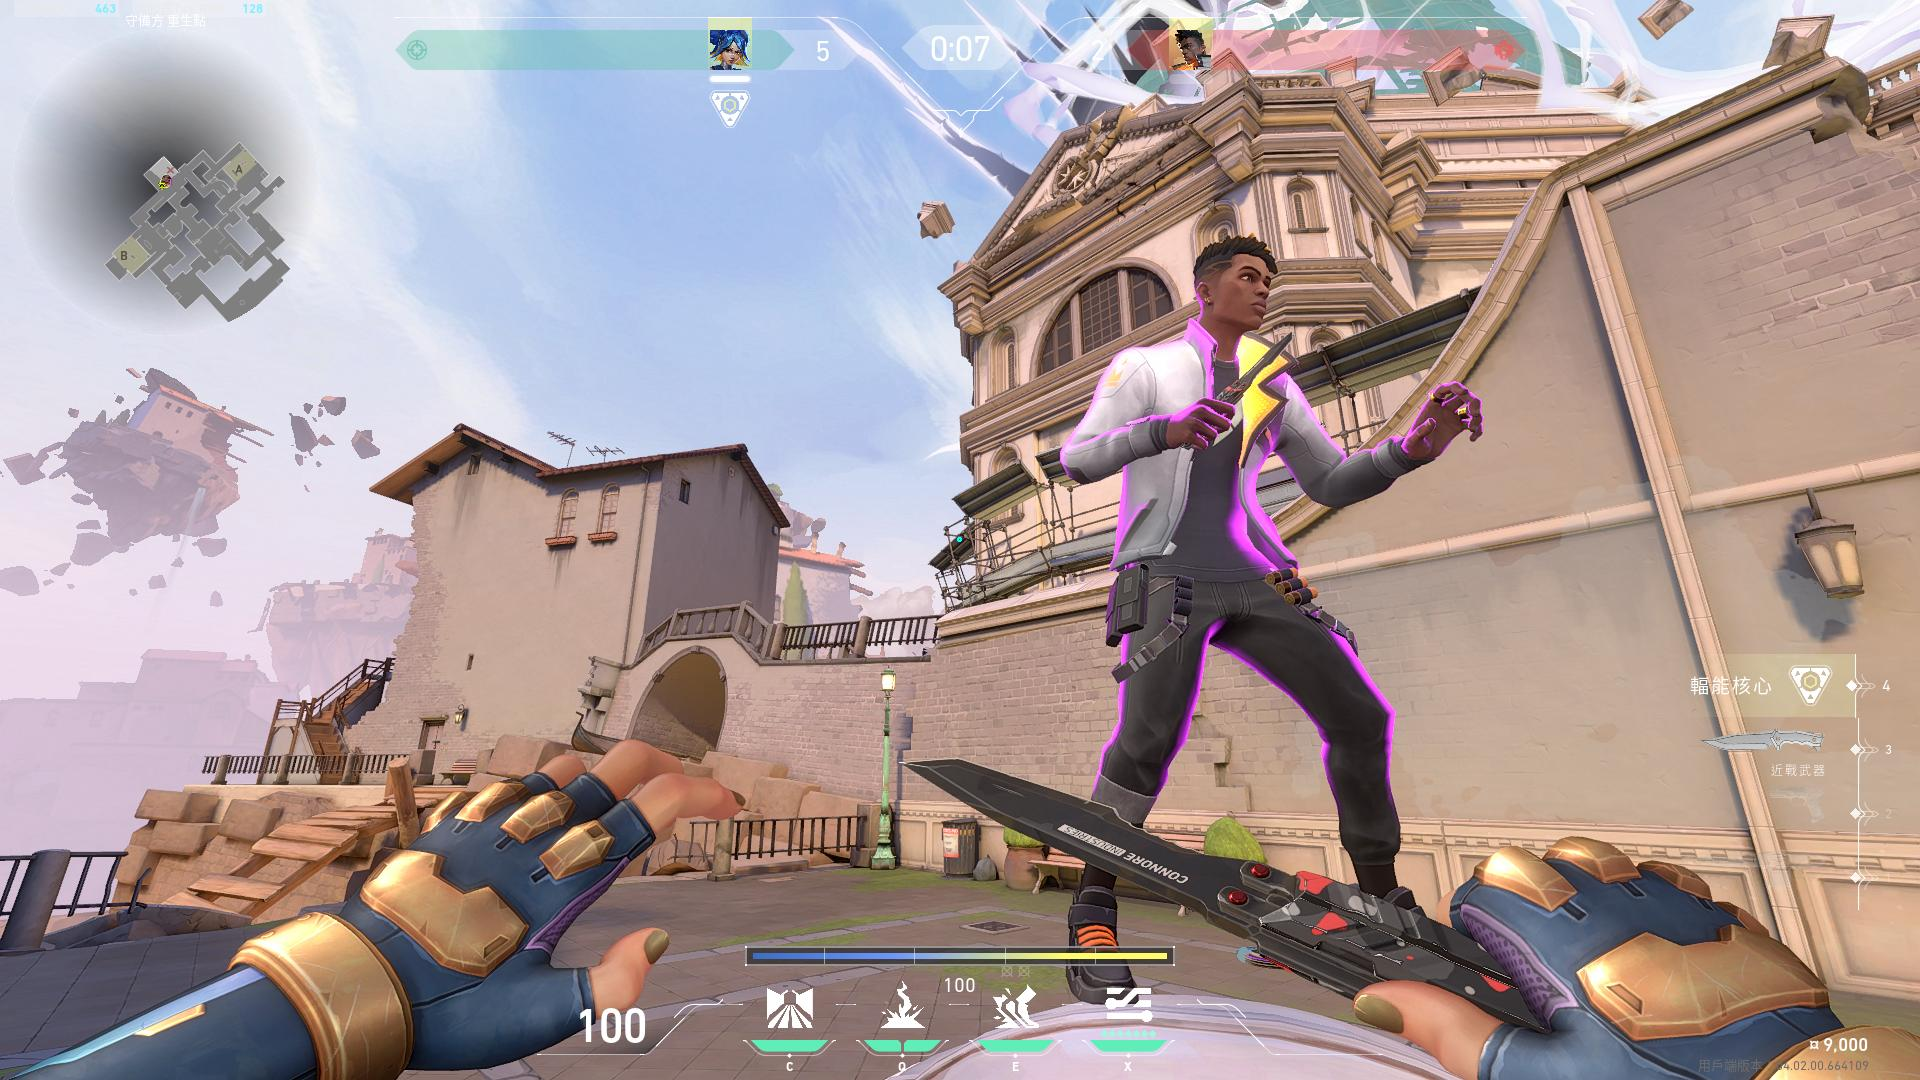enemyBody: (1133, 368, 1274, 563)
enemyHead: (1197, 227, 1292, 345)
